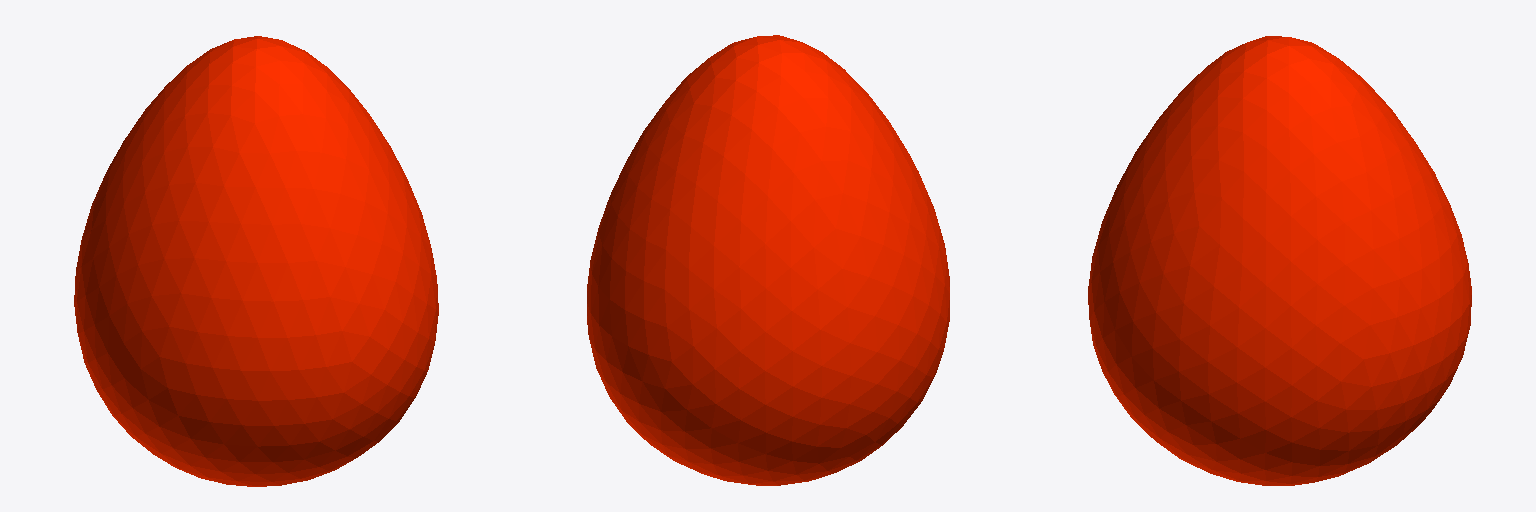
The model's file is balloonRed.obj.
3 views of the same model, side by side, from view 1: azimuth 30°, elevation 25°; view 2: azimuth 150°, elevation 25°; view 3: azimuth 270°, elevation 25° (orthographic).
Parts seen in each view (by area): view 1: selected_model.osgt_GeoSphere01_Geometry_0; view 2: selected_model.osgt_GeoSphere01_Geometry_0; view 3: selected_model.osgt_GeoSphere01_Geometry_0.
Boxes of the visible parts, x1,y1,x2,y2 form: selected_model.osgt_GeoSphere01_Geometry_0: [74, 36, 438, 486]; selected_model.osgt_GeoSphere01_Geometry_0: [587, 35, 949, 485]; selected_model.osgt_GeoSphere01_Geometry_0: [1088, 36, 1471, 485].
Size of the model in its own units: 98.45 by 129 by 105.